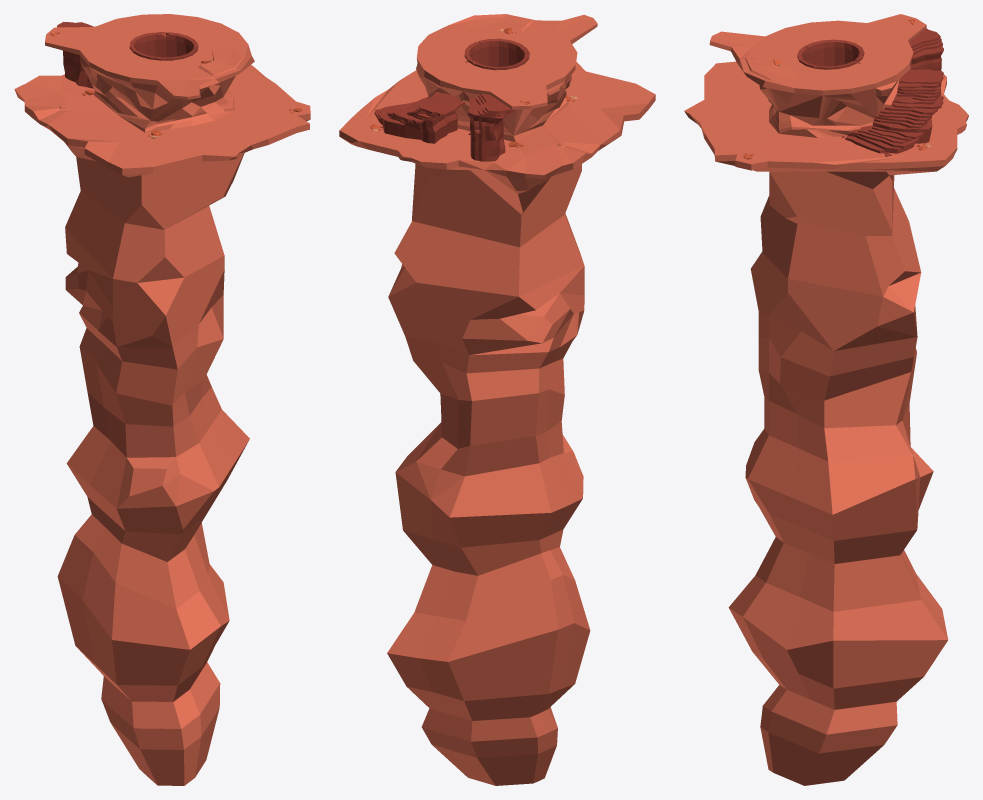
The model's file is D. Centro.fbx.
3 renders of one model, left to right at view 1: azimuth 30°, elevation 25°; view 2: azimuth 150°, elevation 25°; view 3: azimuth 270°, elevation 25°, orthographic.
Parts seen in each view (by area): view 1: base, Cube.005; view 2: base, Cube.005, Cube.009, Cube.006; view 3: base, Cube.009, Cube.005, Cube.023, Cube.006.
Boxes of the visible parts, left/top/right/bottom form: base: left=14, top=14, right=310, bottom=785; Cube.005: left=63, top=22, right=93, bottom=88; base: left=339, top=14, right=655, bottom=785; Cube.005: left=468, top=98, right=505, bottom=161; Cube.009: left=382, top=100, right=457, bottom=143; Cube.006: left=422, top=93, right=465, bottom=116; base: left=684, top=14, right=968, bottom=785; Cube.009: left=873, top=99, right=934, bottom=143; Cube.005: left=910, top=45, right=943, bottom=94; Cube.023: left=845, top=132, right=914, bottom=153; Cube.006: left=899, top=69, right=943, bottom=83.
Size of the model in its own units: 19255 by 61221 by 21785.
